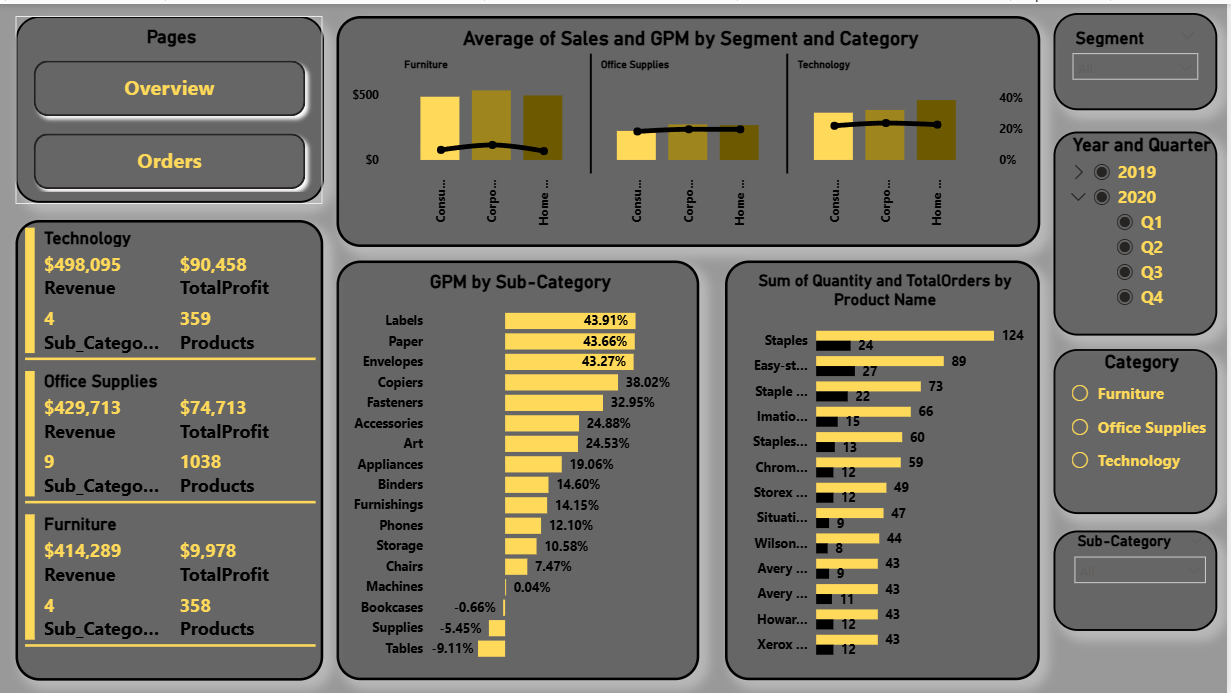

Layout of this report page (visuals, bound fields, positions):
{"tool":"powerbi","page":{"name":"Products","canvas":[1280,720],"ordinal":1},"visuals":[{"type":"listSlicer","fields":{"Values":["Products.Category"]},"box":[1098.8,359.5,170.4,171.9],"z":0},{"type":"pageNavigator","title":"Pages","box":[17,13.2,321.3,194.6],"z":1000},{"type":"slicer","fields":{"Values":["Customers.Segment"]},"box":[1098.8,9.4,170.4,101.6],"z":2000},{"type":"lineClusteredColumnComboChart","fields":{"Y":["Avg(Orders.Sales)"],"Y2":["Orders.GPM"],"Rows":["Products.Category"],"Category":["Customers.Segment"]},"box":[351.7,12.5,733,240.7],"z":3000},{"type":"clusteredBarChart","fields":{"Category":["Products.Product Name"],"Y":["Sum(Orders.Quantity)","Orders.TotalOrders"]},"box":[756.5,267.3,328.2,437.6],"z":4000},{"type":"slicer","fields":{"Values":["Products.Sub-Category"]},"box":[1098.8,548.6,170.4,104.7],"z":5000},{"type":"clusteredBarChart","fields":{"Category":["Products.Sub-Category"],"Y":["Orders.GPM"]},"box":[351.7,267.3,378.2,437.6],"z":6000},{"type":"multiRowCard","fields":{"Values":["Orders.Revenue","Orders.TotalProfit","Products.Category","Orders.Sub_Categorys","Orders.Products"]},"box":[17.2,225.1,320.4,479.8],"z":7000},{"type":"listSlicer","fields":{"Values":["Date.Year Hierarchy.Year","Date.Year Hierarchy.Quarter"]},"box":[1098.8,132.9,170.4,212.6],"z":8000}]}

Visuals, with their boxes in screenshot pixels (x1, y1, x2, y2), scaled from the page's 1280x720 canvas onto the 1231x693 screenshot:
listSlicer - Products.Category: (x1=1057, y1=346, x2=1221, y2=511)
"Pages" pageNavigator: (x1=16, y1=13, x2=325, y2=200)
slicer - Customers.Segment: (x1=1057, y1=9, x2=1221, y2=107)
lineClusteredColumnComboChart - Avg(Orders.Sales) x Orders.GPM: (x1=338, y1=12, x2=1043, y2=244)
clusteredBarChart - Products.Product Name x Sum(Orders.Quantity): (x1=728, y1=257, x2=1043, y2=678)
slicer - Products.Sub-Category: (x1=1057, y1=528, x2=1221, y2=629)
clusteredBarChart - Products.Sub-Category x Orders.GPM: (x1=338, y1=257, x2=702, y2=678)
multiRowCard - Orders.Revenue x Orders.TotalProfit: (x1=17, y1=217, x2=325, y2=678)
listSlicer - Date.Year Hierarchy.Year x Date.Year Hierarchy.Quarter: (x1=1057, y1=128, x2=1221, y2=333)
